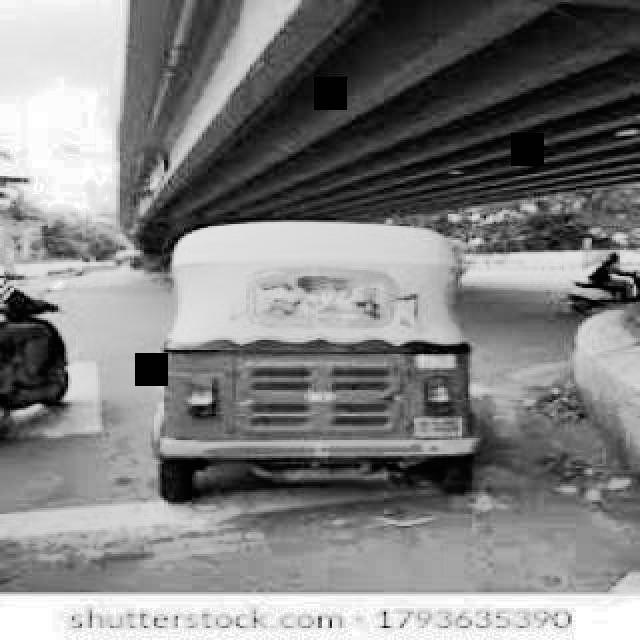Auto-Rickshaw: (164, 210, 488, 514)
